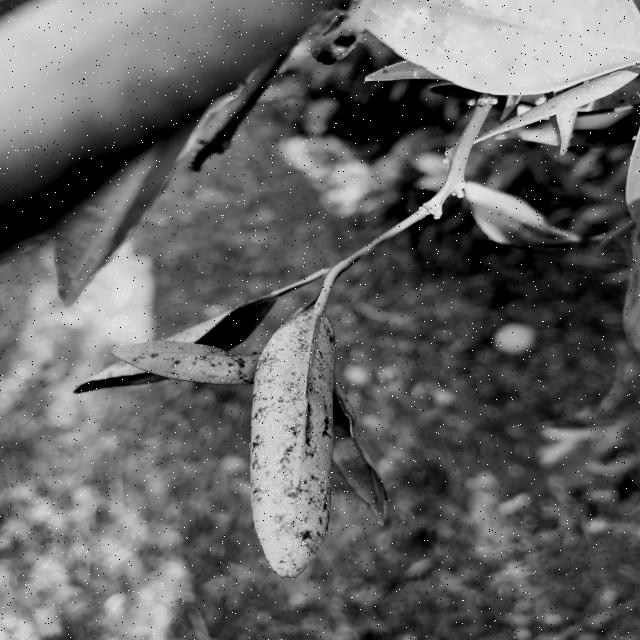melanose: (226, 301, 370, 584), (118, 332, 256, 399)
